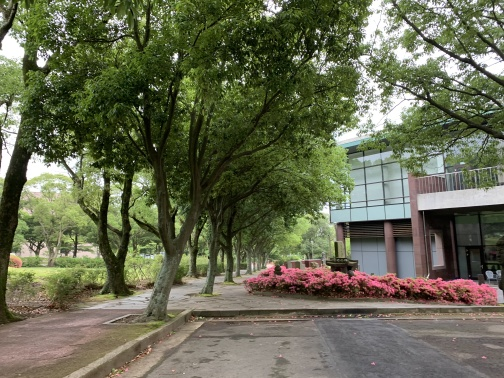Museum: (324, 115, 504, 290)
